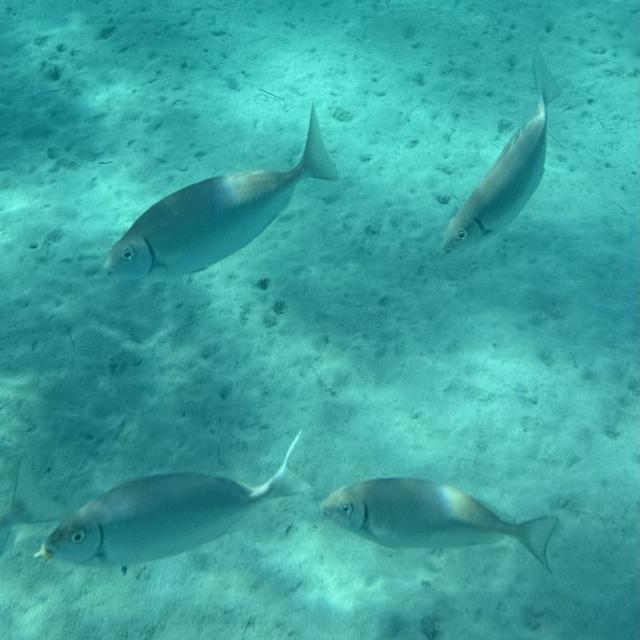Sokar Baligi: (96, 85, 361, 304), (312, 440, 576, 587), (432, 41, 574, 283)
